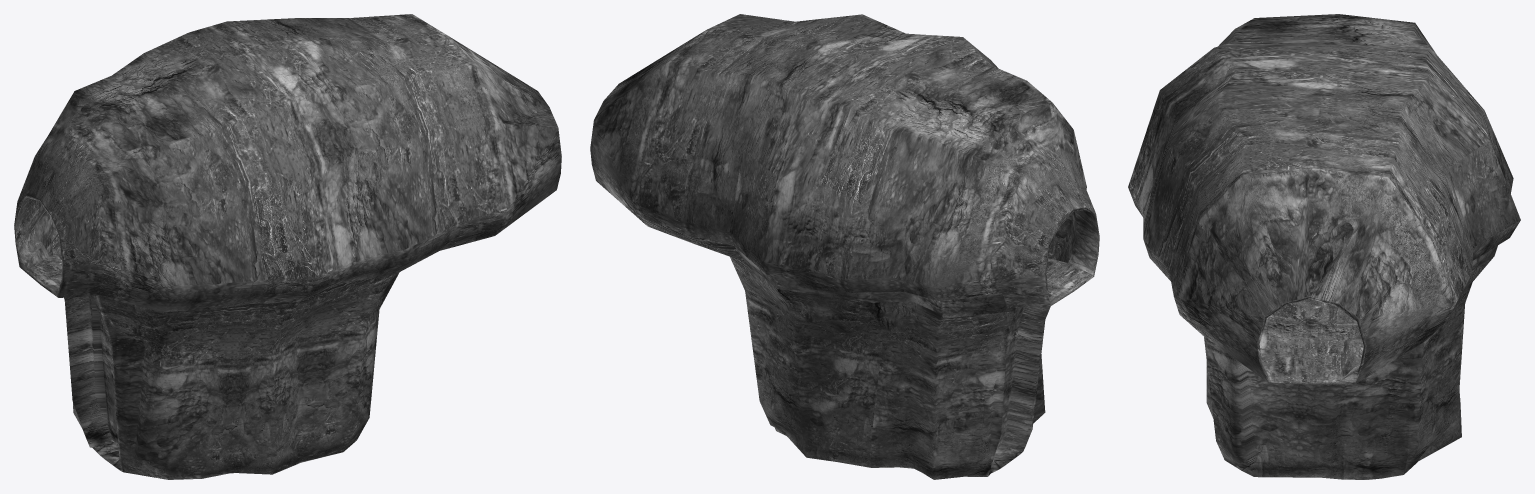
The model's file is casum.fbx.
3 views of the same model, side by side, from view 1: azimuth 30°, elevation 25°; view 2: azimuth 150°, elevation 25°; view 3: azimuth 270°, elevation 25° (orthographic). The views are drawn at different scales.
Visible parts, largest first — view 1: cassum; view 2: cassum; view 3: cassum.
Part boxes in pixels (box(x1,y1,x2,y2)): cassum: box(14, 14, 561, 479); cassum: box(590, 14, 1099, 479); cassum: box(1128, 14, 1520, 479).
Size of the model in its own units: 541 by 401 by 366.
Materials: 1 (1 with a texture image).
